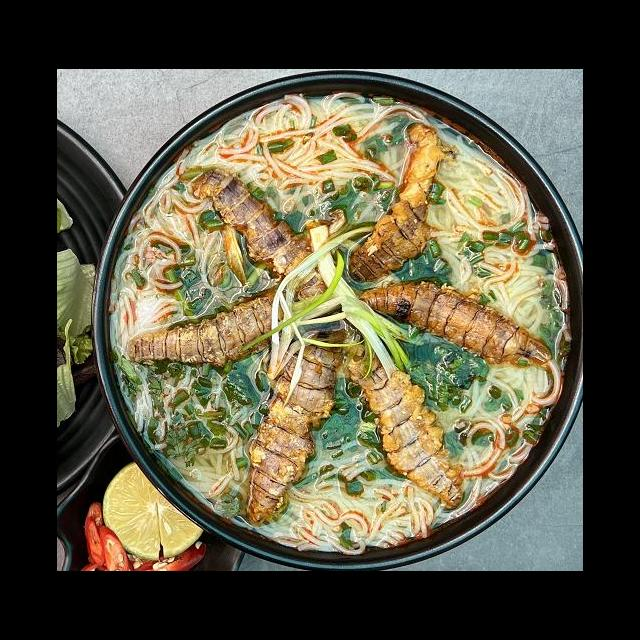bun: (213, 84, 429, 239), (425, 127, 567, 343), (122, 357, 264, 522), (105, 170, 229, 352), (284, 432, 438, 558), (434, 351, 560, 485)
tom tit: (333, 330, 469, 510), (240, 321, 354, 529), (183, 162, 337, 312), (122, 272, 336, 373), (349, 276, 554, 375), (341, 118, 458, 288)
